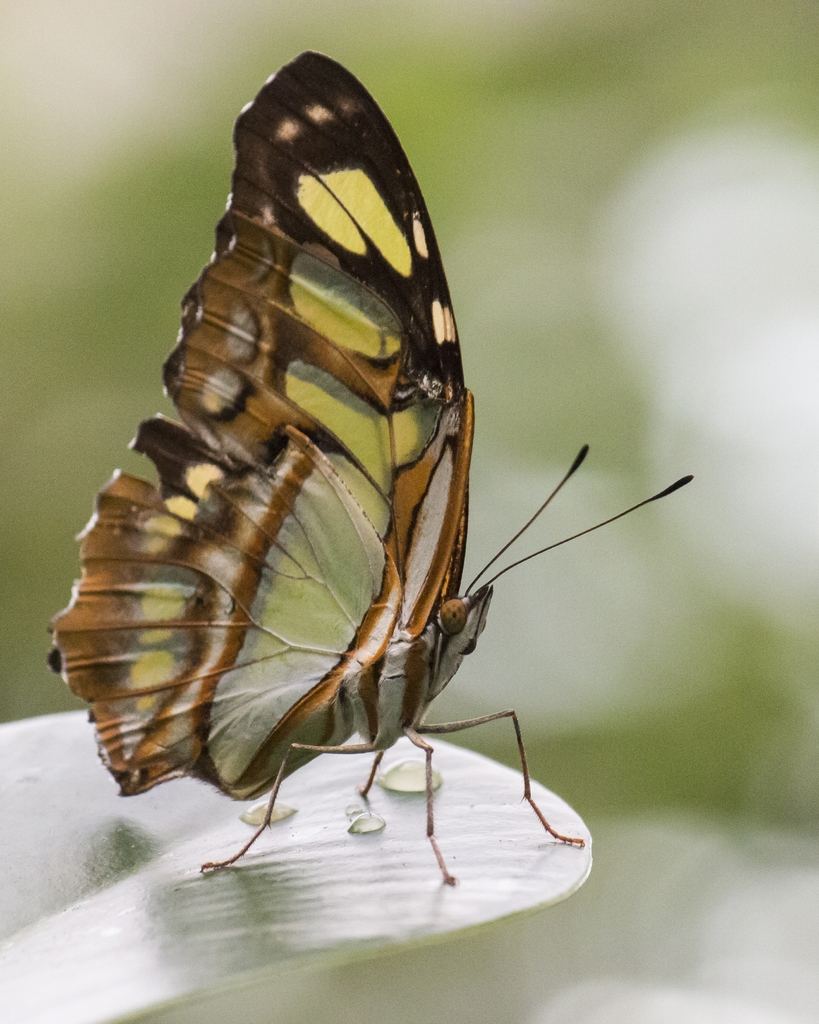Butterfly: (49, 49, 562, 890)
